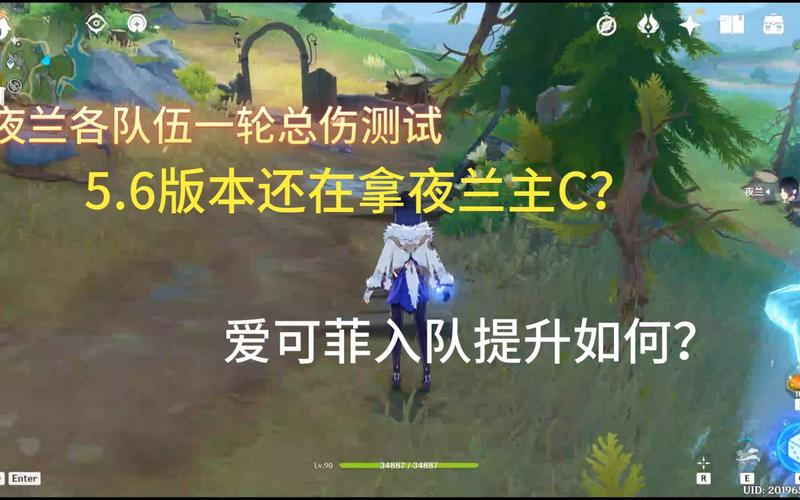夜兰: (354, 196, 465, 396)
